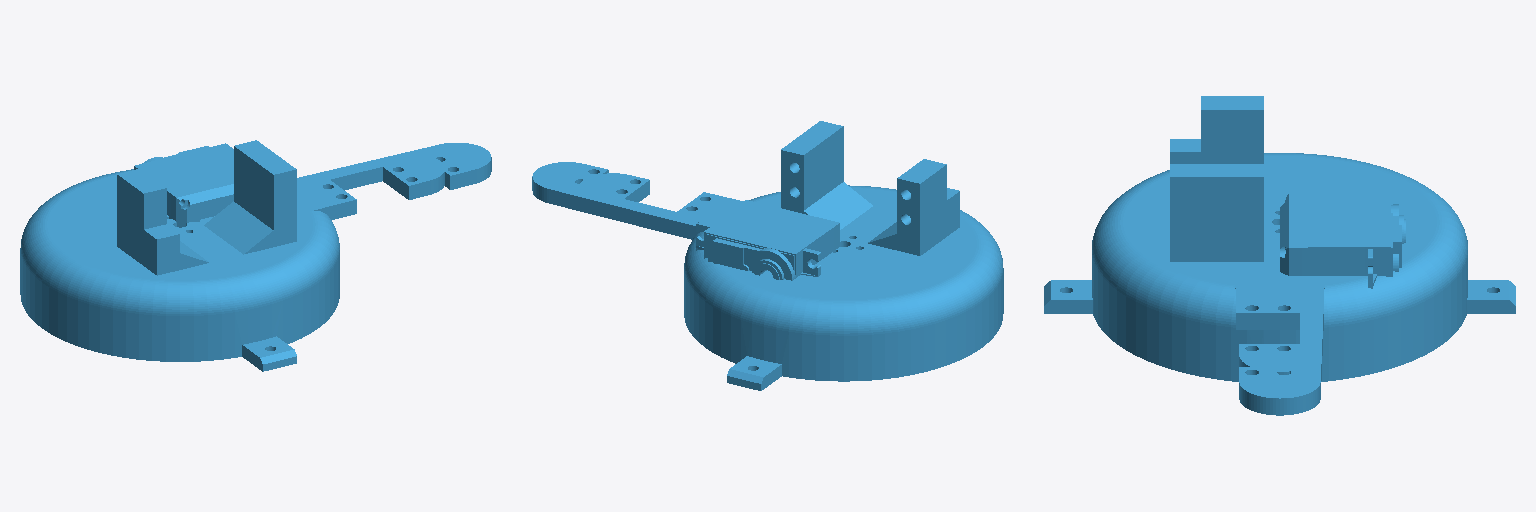
URDF robot description (robot_arm_description):
<?xml version="1.0"?>
<robot name="robot_arm_description">
<link name="world"/>

  <joint name="world_to_base" type="fixed">
    <parent link="world"/>
    <child link="base"/>
    <origin xyz="0 0 0" rpy="0 0 0"/>
  </joint>

  <link name="base">

    <visual>
      <origin xyz="0 0 0" rpy="0 0 0"/>
      <geometry>
        <mesh filename="package://robot_arm_description/meshes/base.stl"/>
      </geometry>
    </visual>

    <visual>
      <origin xyz="0 0 0" rpy="0 0 0"/>
      <geometry>
        <mesh filename="package://robot_arm_description/meshes/servo1.stl"/>
      </geometry>
    </visual>

    <visual>
      <origin xyz="0 0 0" rpy="0 0 0"/>
      <geometry>
        <mesh filename="package://robot_arm_description/meshes/rotate_base.stl"/>
      </geometry>
    </visual>

    <visual>
      <origin xyz="0 0 0" rpy="0 0 0"/>
      <geometry>
        <mesh filename="package://robot_arm_description/meshes/joint.stl"/>
      </geometry>
    </visual>

    <visual>
      <origin xyz="0 0 0" rpy="0 0 0"/>
      <geometry>
        <mesh filename="package://robot_arm_description/meshes/link1.stl"/>
      </geometry>
    </visual>

    <visual>
      <origin xyz="0 0 0" rpy="0 0 0"/>
      <geometry>
        <mesh filename="package://robot_arm_description/meshes/link2.stl"/>
      </geometry>
    </visual>

    <visual>
      <origin xyz="0 0 0" rpy="0 0 0"/>
      <geometry>
        <mesh filename="package://robot_arm_description/meshes/link2__2.stl"/>
      </geometry>
    </visual>

  </link>

</robot>

--- What the picture shows (computed from the rendered views, not written in the file) ---
The picture shows the robot from 3 angles, left to right: view 1: azimuth 30°, elevation 25°; view 2: azimuth 150°, elevation 25°; view 3: azimuth 270°, elevation 25°; orthographic projection.
Model robot_arm_description with 2 links and 1 joints (1 fixed), rooted at world, posed all joints at 0.
Visible links, largest first — view 1: base; view 2: base; view 3: base.
Boxes of the visible links, left/top/right/bottom form: base: left=20, top=140, right=491, bottom=371; base: left=532, top=121, right=1003, bottom=390; base: left=1044, top=96, right=1515, bottom=415.
Bounding box of the posed robot: 0.193 × 0.15 × 0.059 m (x, y, z).
7 mesh visuals loaded from 7 distinct referenced files (7 binary STL).
